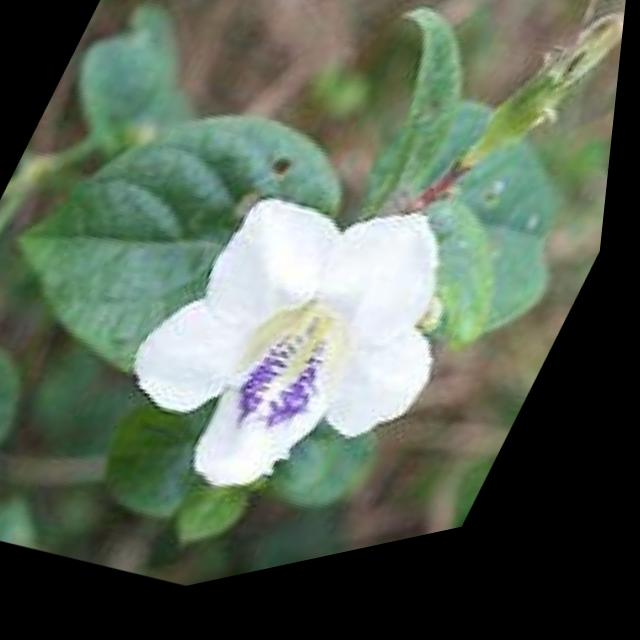Flower: (86, 139, 521, 584)
